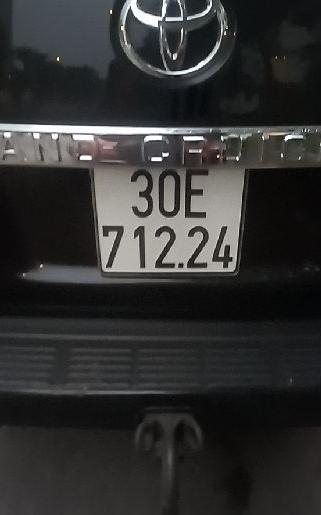Plate-iWeP: (98, 166, 240, 276)
